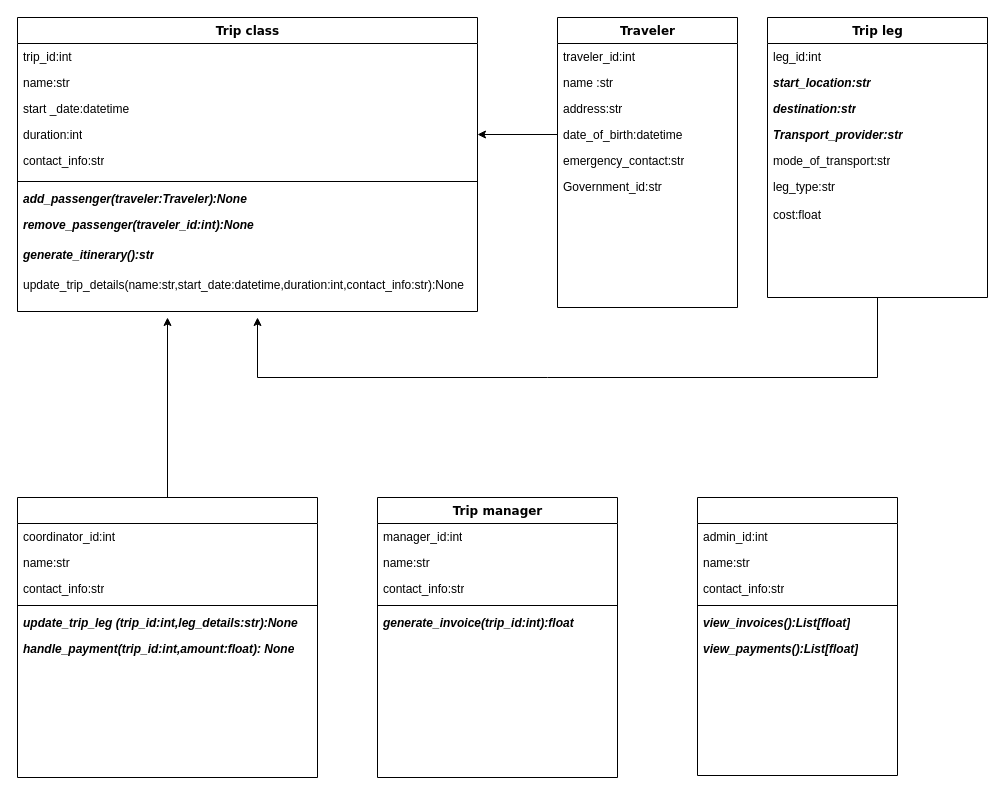
Some shapes in this 1005 by 795 pixel diagram are drawn without their labels. Here are the shapes that lost their labels. From the top down, the box of each, then its label:
(16, 496, 318, 778): Trip coordinator
(696, 496, 898, 776): Administrator
